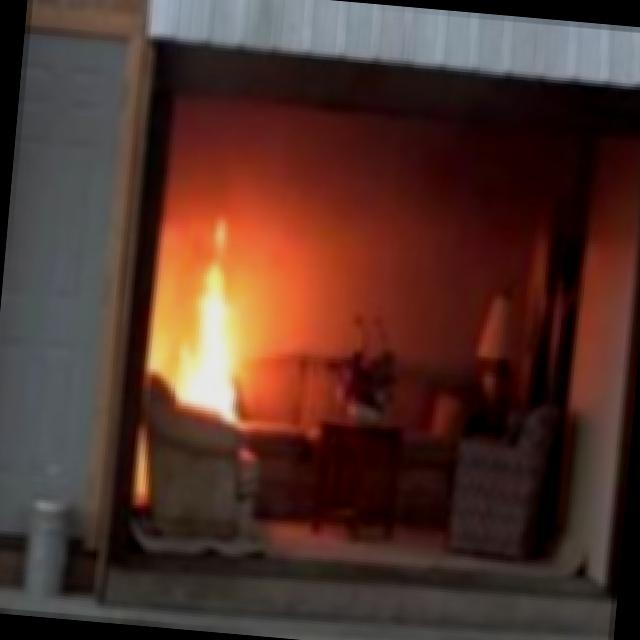fire: (144, 208, 267, 398)
